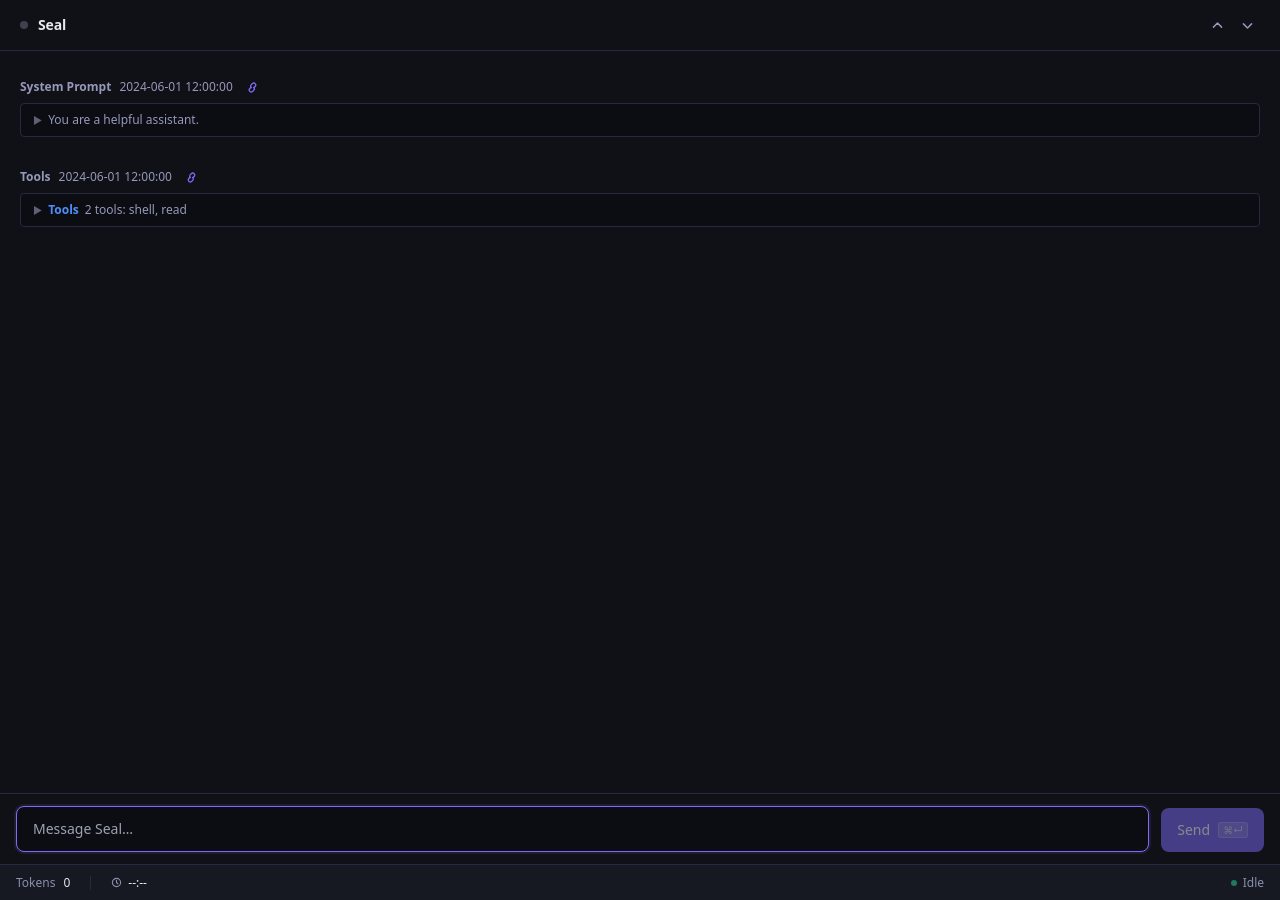
ChatArea › renders a collapsed System row and a separate collapsed Tools row, both expandable
Expected: the text "You are a helpful assistant." is shown, left=48, top=111, right=199, bottom=128
Expected: the text "\"input_schema\"" is not shown
Note: Click the Tools row to expand it.
Click the text "2 tools: shell, read" at (136, 210), box left=85, top=201, right=187, bottom=218
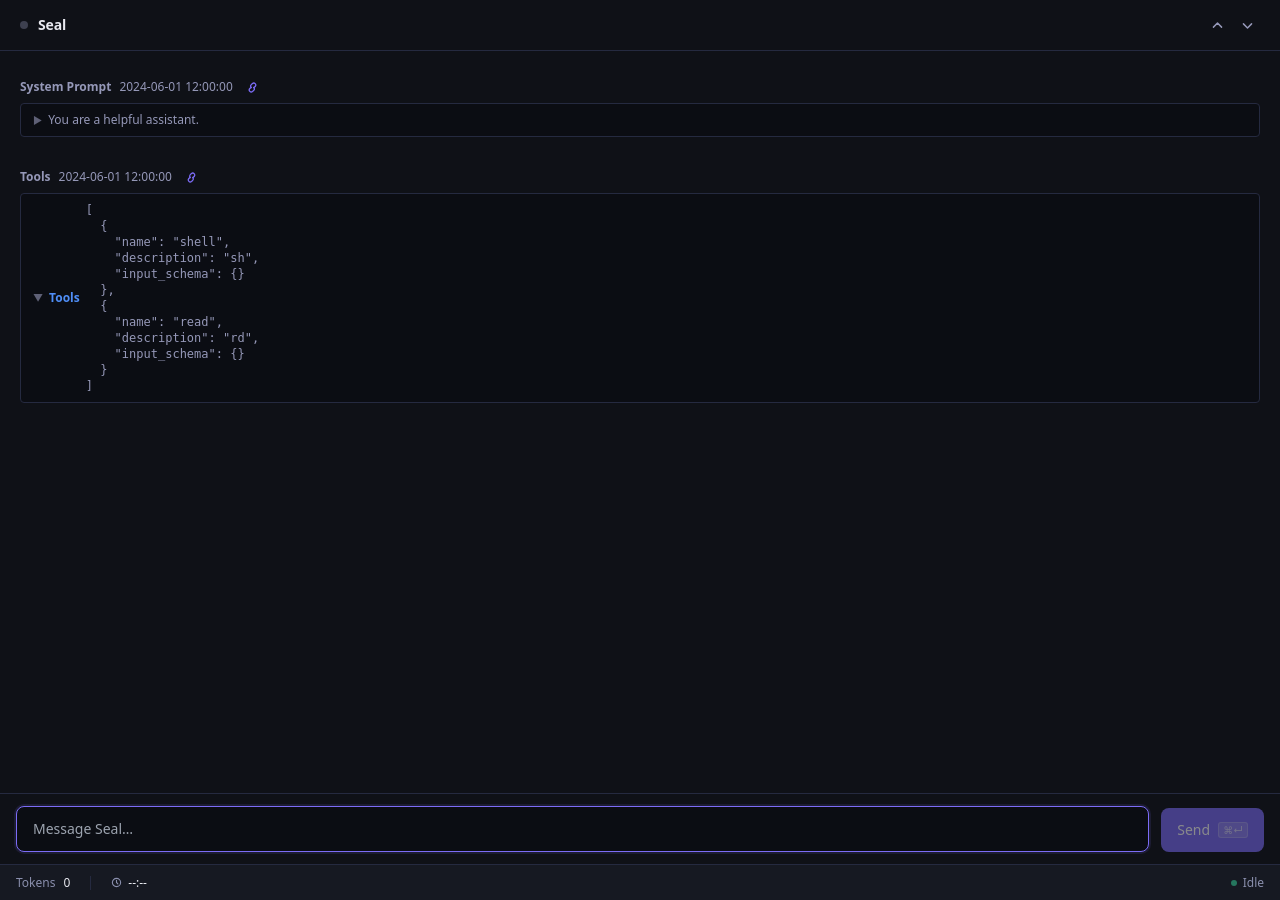
Result: the text "\"input_schema\"" is shown at left=86, top=203, right=259, bottom=393
Result: the text "\"shell\"" is shown at left=86, top=203, right=259, bottom=393
